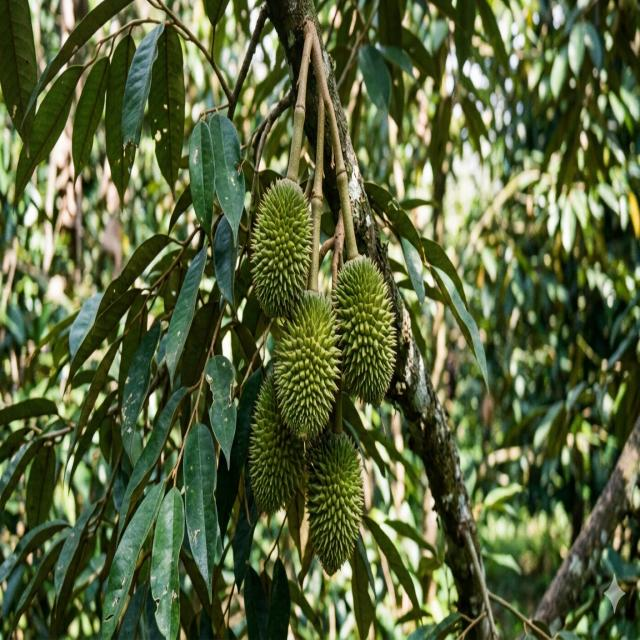immature: (273, 288, 342, 438), (332, 254, 397, 404), (249, 174, 314, 316), (304, 428, 366, 574), (248, 372, 308, 515)
